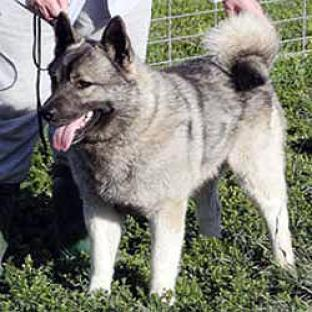Animal: (42, 11, 293, 295)
